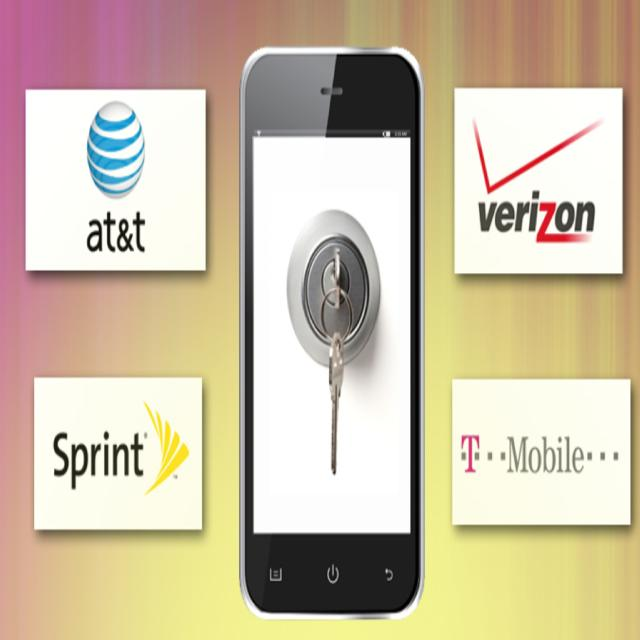Mobile-phone: (232, 43, 432, 603)
